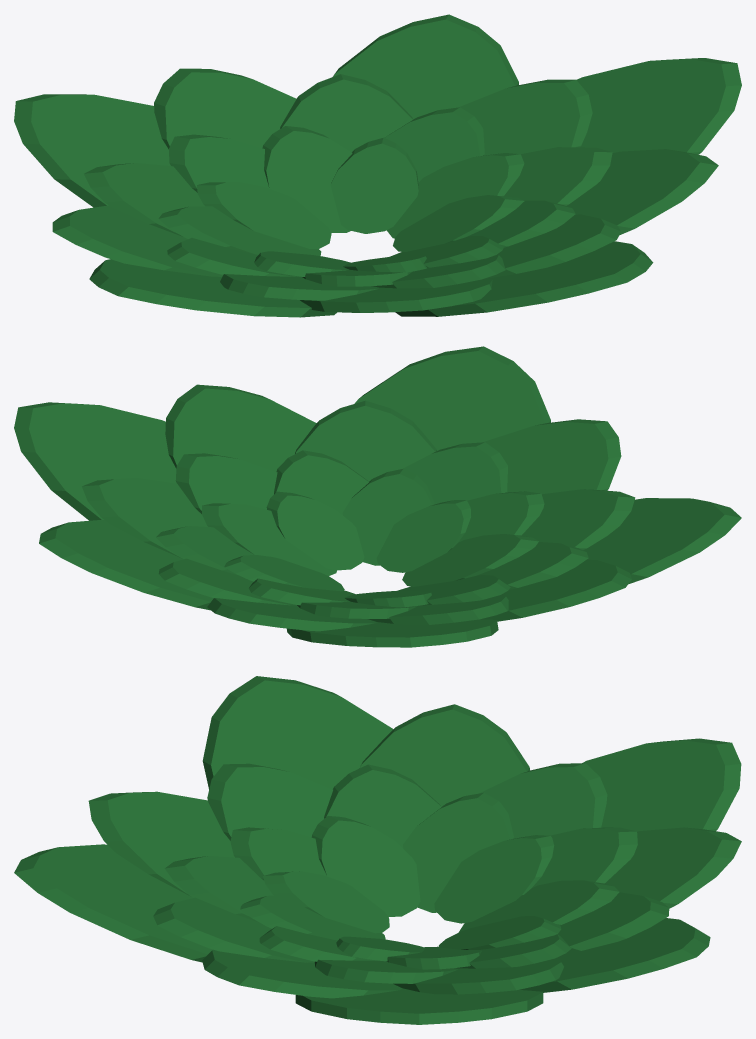
The model's file is bush-03.fbx.
3 views of the same model, one above another, from view 1: azimuth 30°, elevation 25°; view 2: azimuth 150°, elevation 25°; view 3: azimuth 270°, elevation 25° (orthographic). The views are drawn at different scales.
Visible parts, largest first — view 1: bush-03; view 2: bush-03; view 3: bush-03.
Part boxes in pixels (x1,y1,x2,y2): bush-03: (14,14,741,317); bush-03: (14,346,741,647); bush-03: (14,676,741,1024).
Size of the model in its own units: 45.96 by 6.21 by 39.8.
